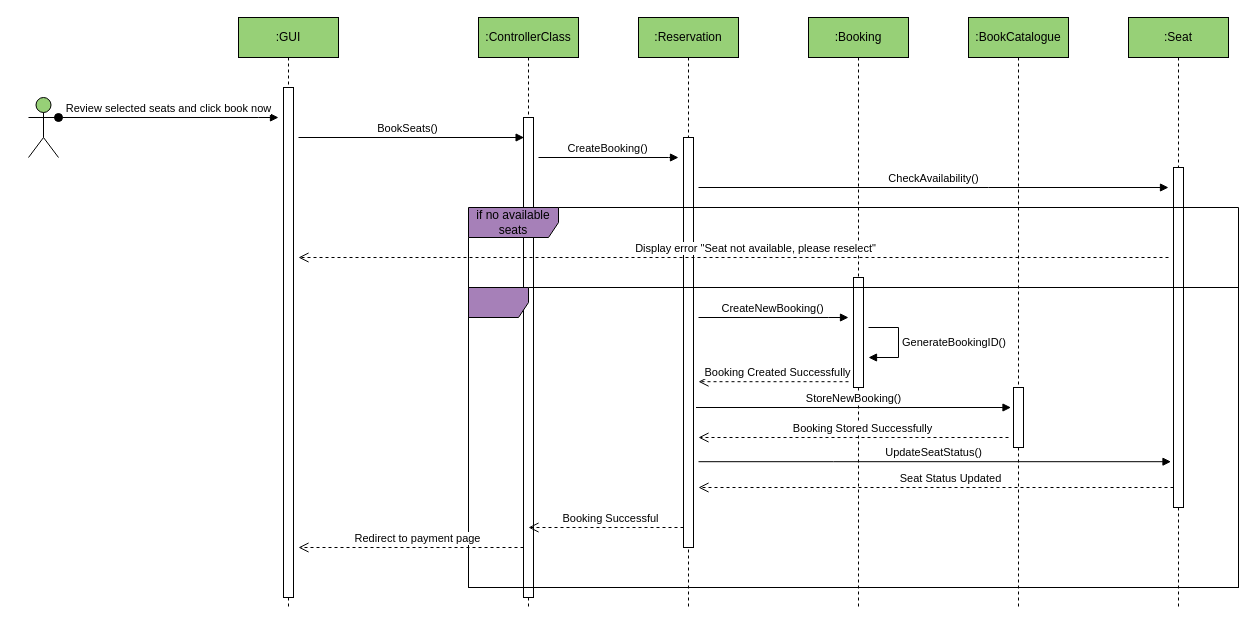
Image size: 1256x625. Some labels were removed from this diagram. The shapes that lost their labels are listed below. From the top down, each one's centre as x and y in pixels, then its label:
the point at 43,127: Customer
the point at 853,437: else
